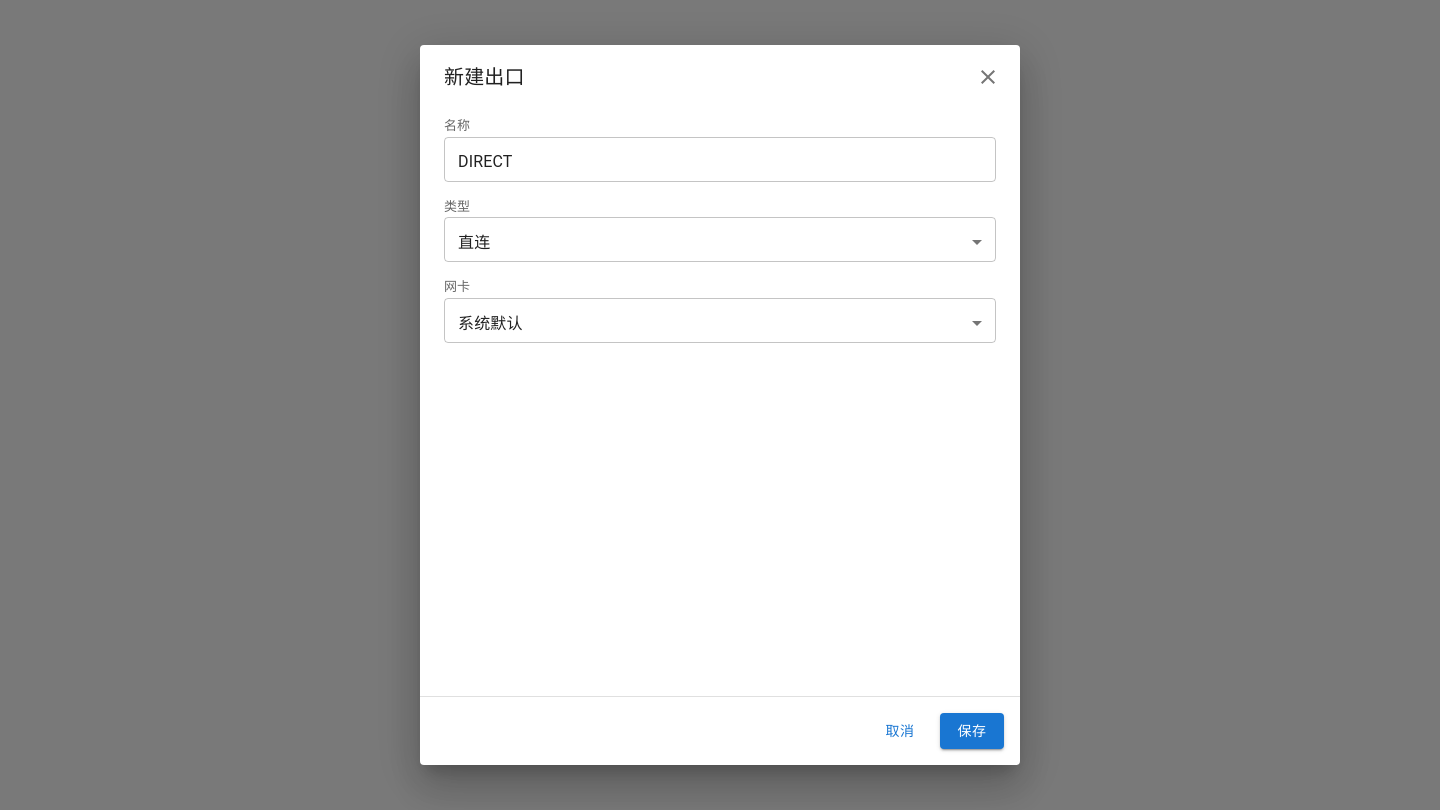
Scenario: ExitDialog › shows name errors on the exit name field and clears them on edit
Click the button "保存".
click(972, 731)  # box [940, 712, 1004, 749]
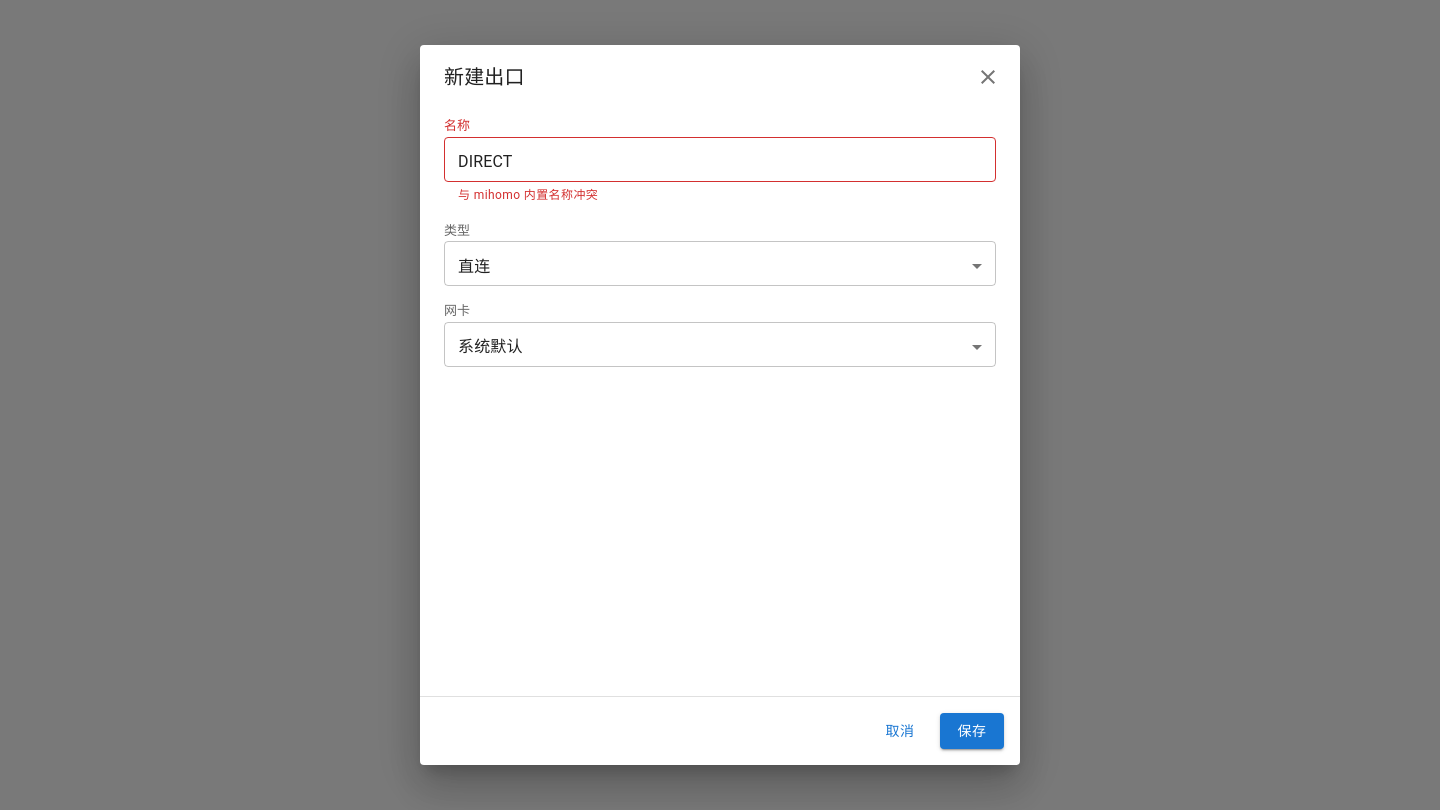
expect the text "与 mihomo 内置名称冲突" is shown: met, box [458, 188, 598, 202]
Replace the text in the field labelled "名称" with "直连2" at (720, 162), box [444, 142, 996, 182]
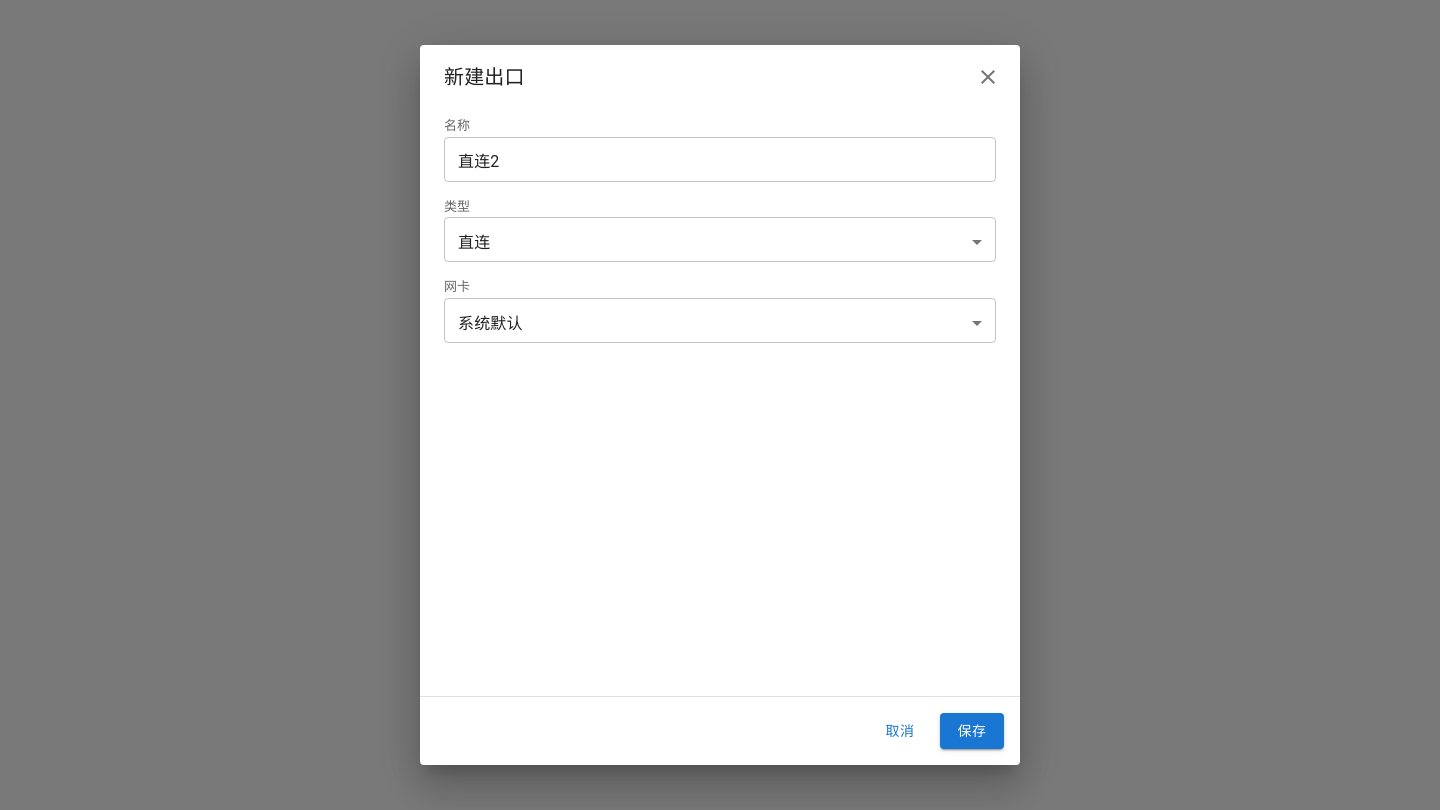
expect the text "与 mihomo 内置名称冲突" is gone: met
